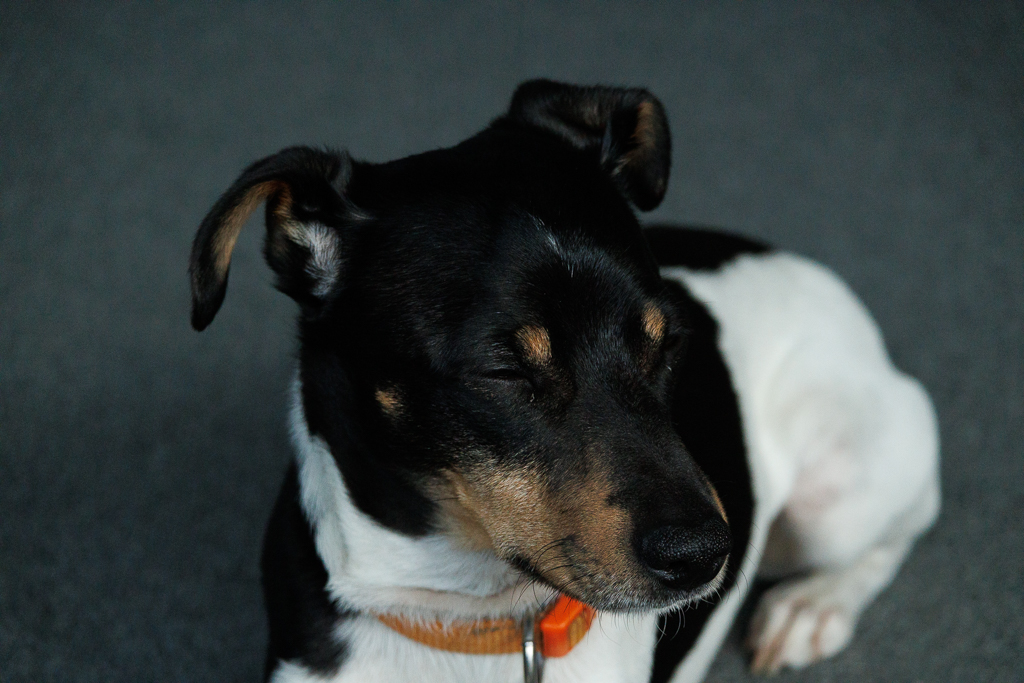Dog: (173, 69, 956, 683)
